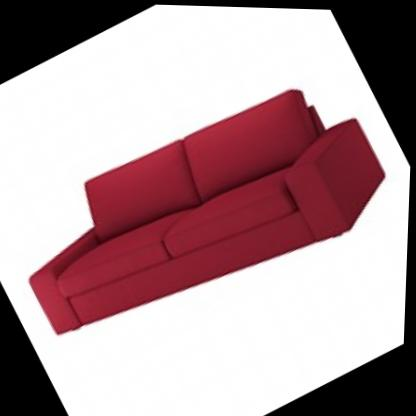Sofa: (0, 31, 413, 392)
